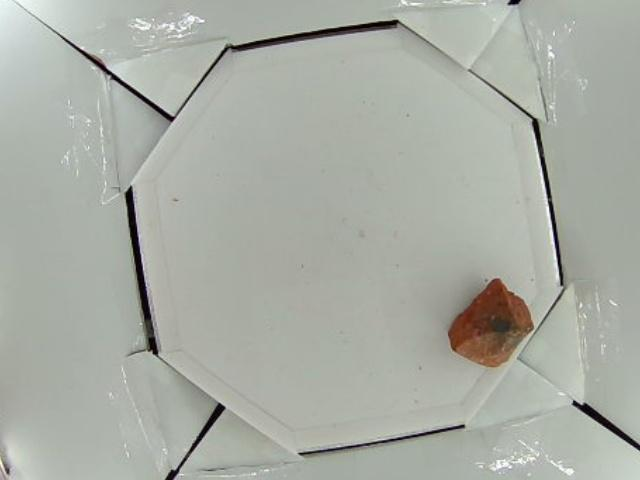Brisk: (447, 279, 533, 365)
